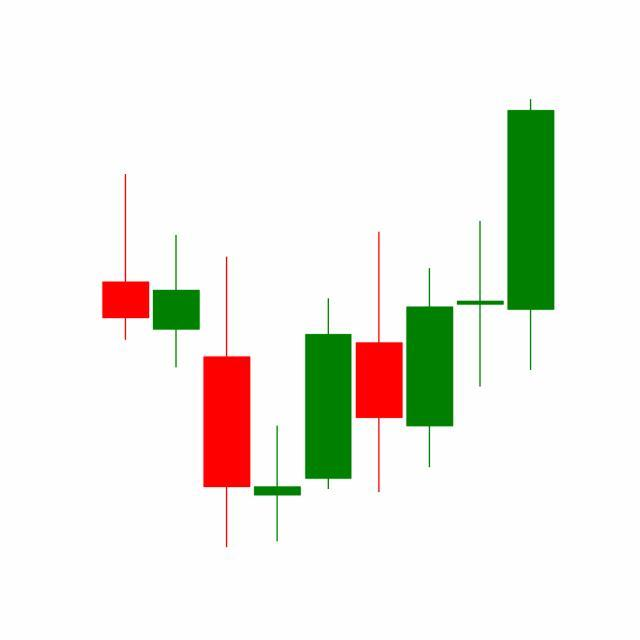Hikkake Pattern: (252, 217, 506, 546)
